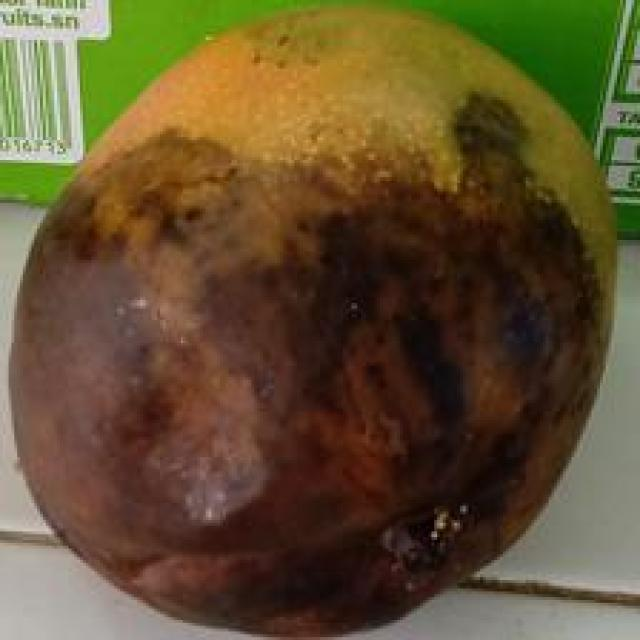Bad_Mango: (10, 14, 612, 633)
